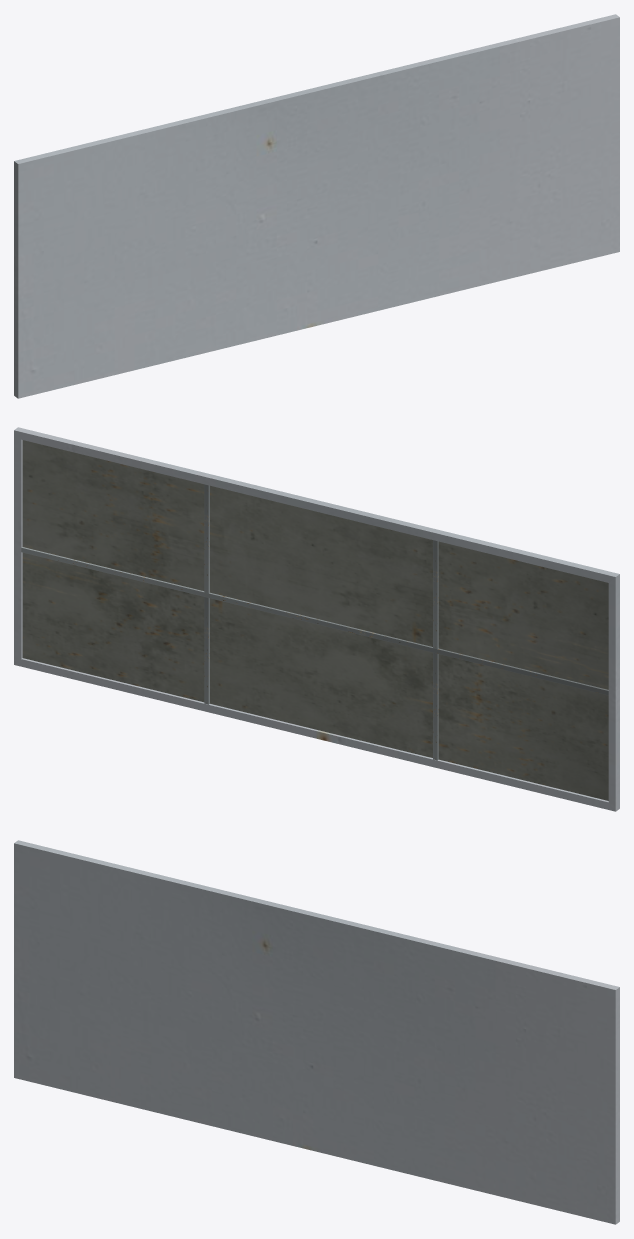
The model's file is signboardblank1b.fbx.
3 views of the same model, one above another, from view 1: azimuth 30°, elevation 25°; view 2: azimuth 150°, elevation 25°; view 3: azimuth 330°, elevation 25° (orthographic).
Visible parts, largest first — view 1: signboardblank1b; view 2: signboardblank1b; view 3: signboardblank1b.
Boxes of the visible parts, x1,y1,x2,y2 form: signboardblank1b: (14,14,619,398); signboardblank1b: (14,427,619,811); signboardblank1b: (14,840,619,1224).
Size of the model in its own units: 235 by 87.42 by 2.82.
